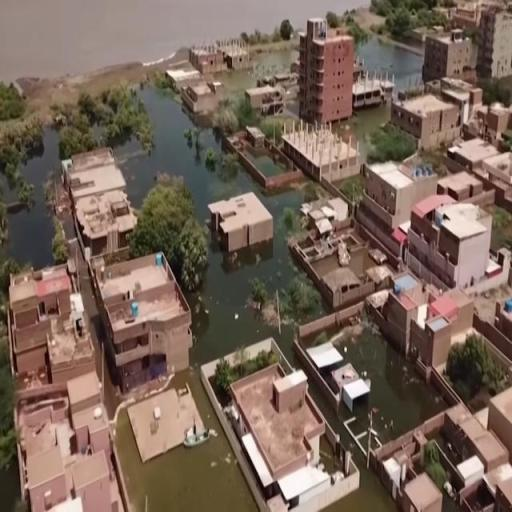flood: (121, 87, 304, 363), (0, 0, 370, 80), (115, 370, 259, 512), (337, 325, 449, 443), (6, 127, 59, 268), (322, 450, 399, 512), (214, 49, 298, 96), (358, 37, 424, 78), (349, 104, 390, 156)
house: (220, 346, 352, 511), (94, 248, 198, 388), (20, 385, 117, 512), (8, 269, 86, 375), (410, 193, 492, 292), (360, 151, 438, 254), (300, 24, 358, 132), (282, 122, 360, 190), (208, 188, 274, 262), (395, 91, 461, 152), (306, 252, 360, 312), (240, 151, 302, 194), (481, 6, 512, 80), (431, 28, 473, 74), (167, 63, 204, 108), (246, 86, 282, 119), (222, 33, 250, 72)
